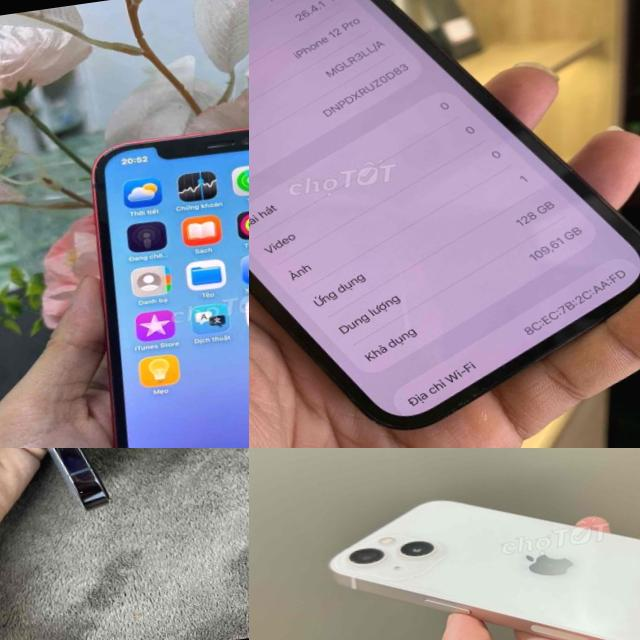gen_11: (59, 108, 249, 448)
gen_12_13: (249, 0, 640, 448), (316, 451, 640, 640), (0, 448, 122, 543)
